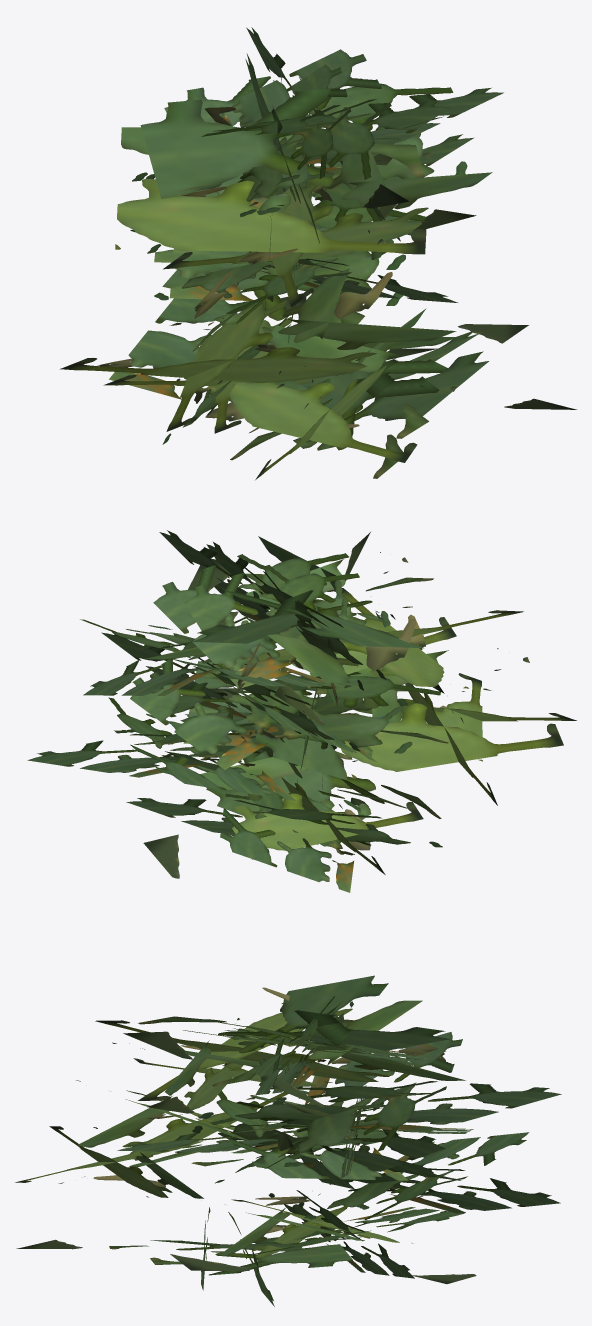
File: hosta-clump-lod1.glb
3 renders of one model, top to bottom at view 1: azimuth 30°, elevation 25°; view 2: azimuth 150°, elevation 25°; view 3: azimuth 270°, elevation 25°, orthographic. The views are drawn at different scales.
Visible parts, largest first — view 1: foliage; view 2: foliage; view 3: foliage.
Boxes of the visible parts, box(x1,y1,x2,y2) form: foliage: box(60, 27, 576, 479); foliage: box(27, 530, 576, 892); foliage: box(15, 975, 561, 1306).
Size of the model in its own units: 1.09 by 0.6922 by 1.33.
1 material, 1 textured.
